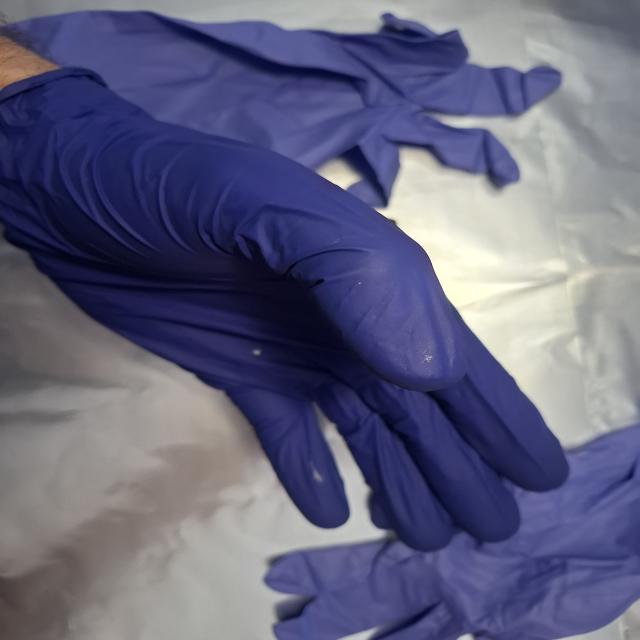glove_on: (0, 63, 572, 556)
